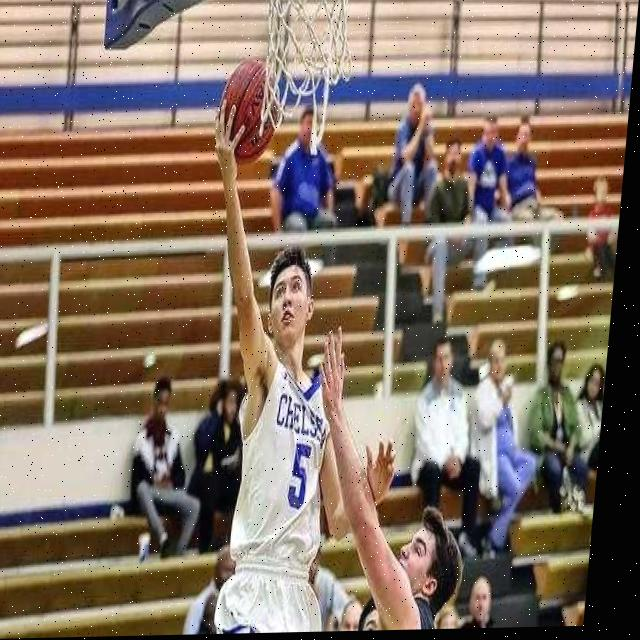basketball: (213, 53, 283, 168)
hoop: (254, 0, 362, 158)
